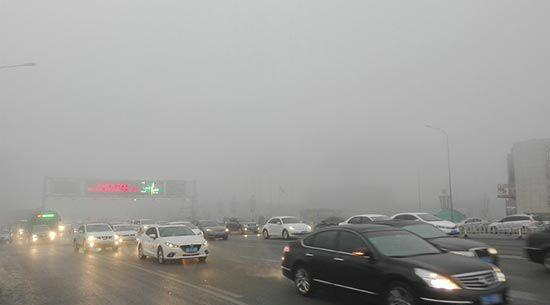bus: (29, 209, 63, 244)
car: (278, 222, 510, 305), (137, 225, 209, 266), (389, 212, 462, 238), (337, 213, 405, 240), (73, 222, 121, 252), (488, 211, 542, 235), (262, 216, 312, 239), (165, 220, 205, 246), (196, 219, 230, 242), (108, 224, 139, 246), (226, 217, 261, 236), (453, 217, 490, 233), (29, 224, 58, 244)
